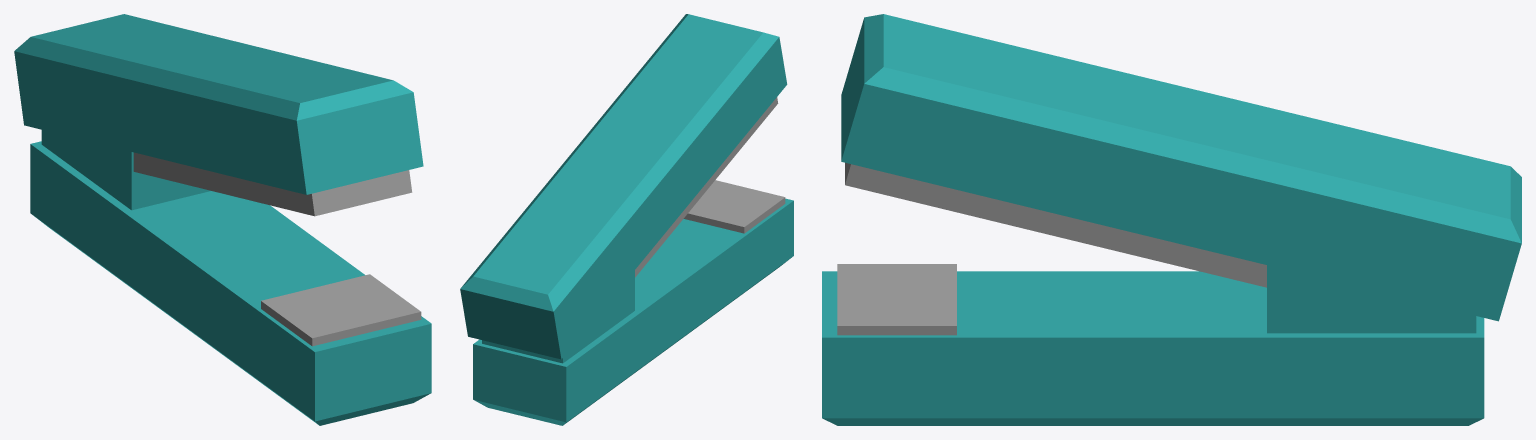
The model's file is Stapler.fbx.
The picture shows the model from 3 angles, left to right: view 1: azimuth 30°, elevation 25°; view 2: azimuth 150°, elevation 25°; view 3: azimuth 270°, elevation 25°; orthographic projection. The views are drawn at different scales.
Visible parts, largest first — view 1: pCube403; view 2: pCube403; view 3: pCube403.
Boxes of the visible parts, left/top/right/bottom form: pCube403: left=14, top=14, right=431, bottom=425; pCube403: left=460, top=14, right=793, bottom=425; pCube403: left=822, top=14, right=1521, bottom=425.
Bounding box in the file's own units: 3 × 13.36 × 7.56.
